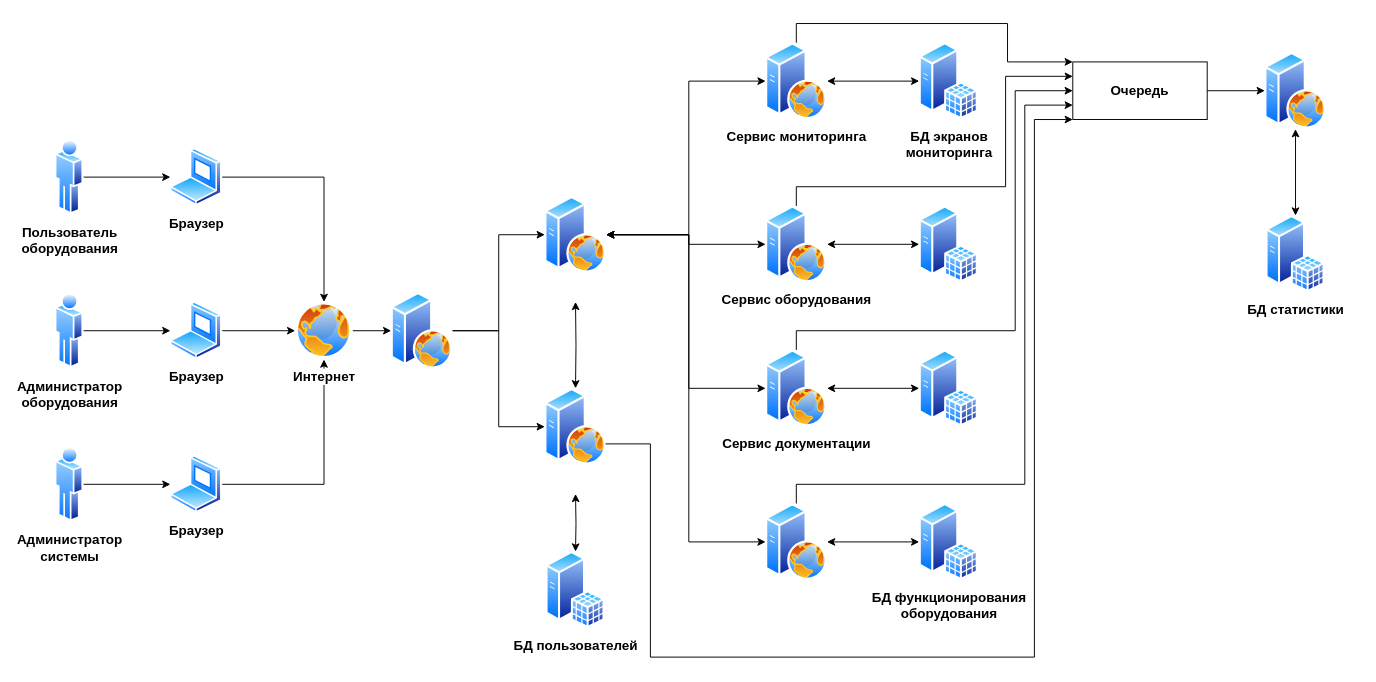
Image size: 1376x682. Some labels were removed from this diagram. The shapes that lost their labels are listed below. From the top down, each one's centre as x and y in pixels, then its label:
At [1295,90]: "Сервис статистики".
At [575,234]: "Сервис маршрутизации".
At [948,243]: "БД оборудования".
At [421,330]: "Front-end".
At [948,387]: "БД документации".
At [575,426]: "Сервис авторизации".
At [796,541]: "Сервис данных оборудования".
